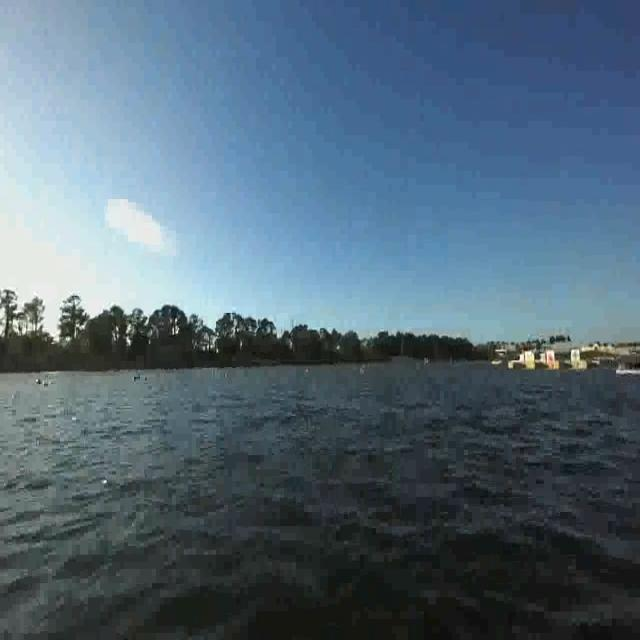red-dot: (548, 351, 554, 363)
yellow-duck: (526, 351, 535, 369)
